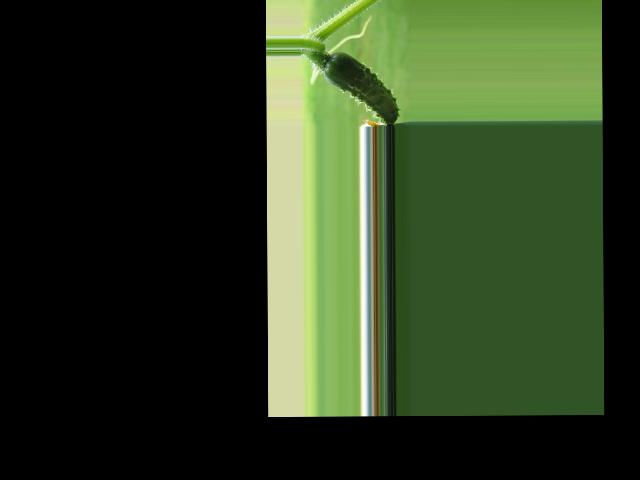cucumber: (324, 50, 399, 124)
